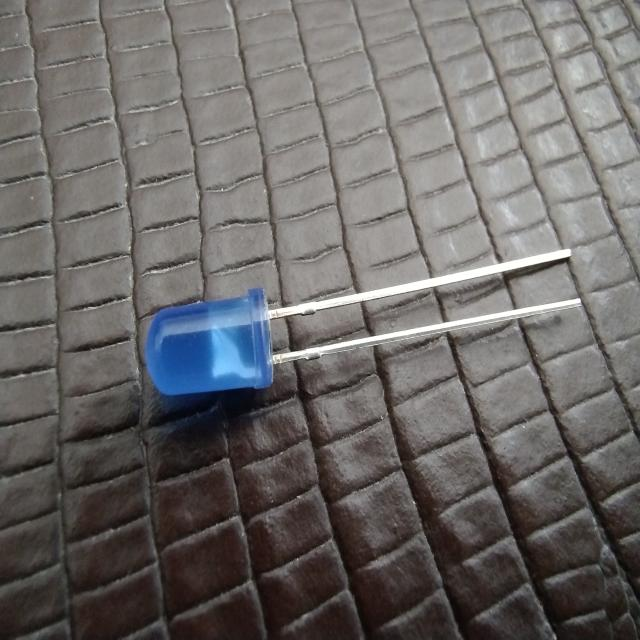blue_led: (144, 286, 274, 398)
